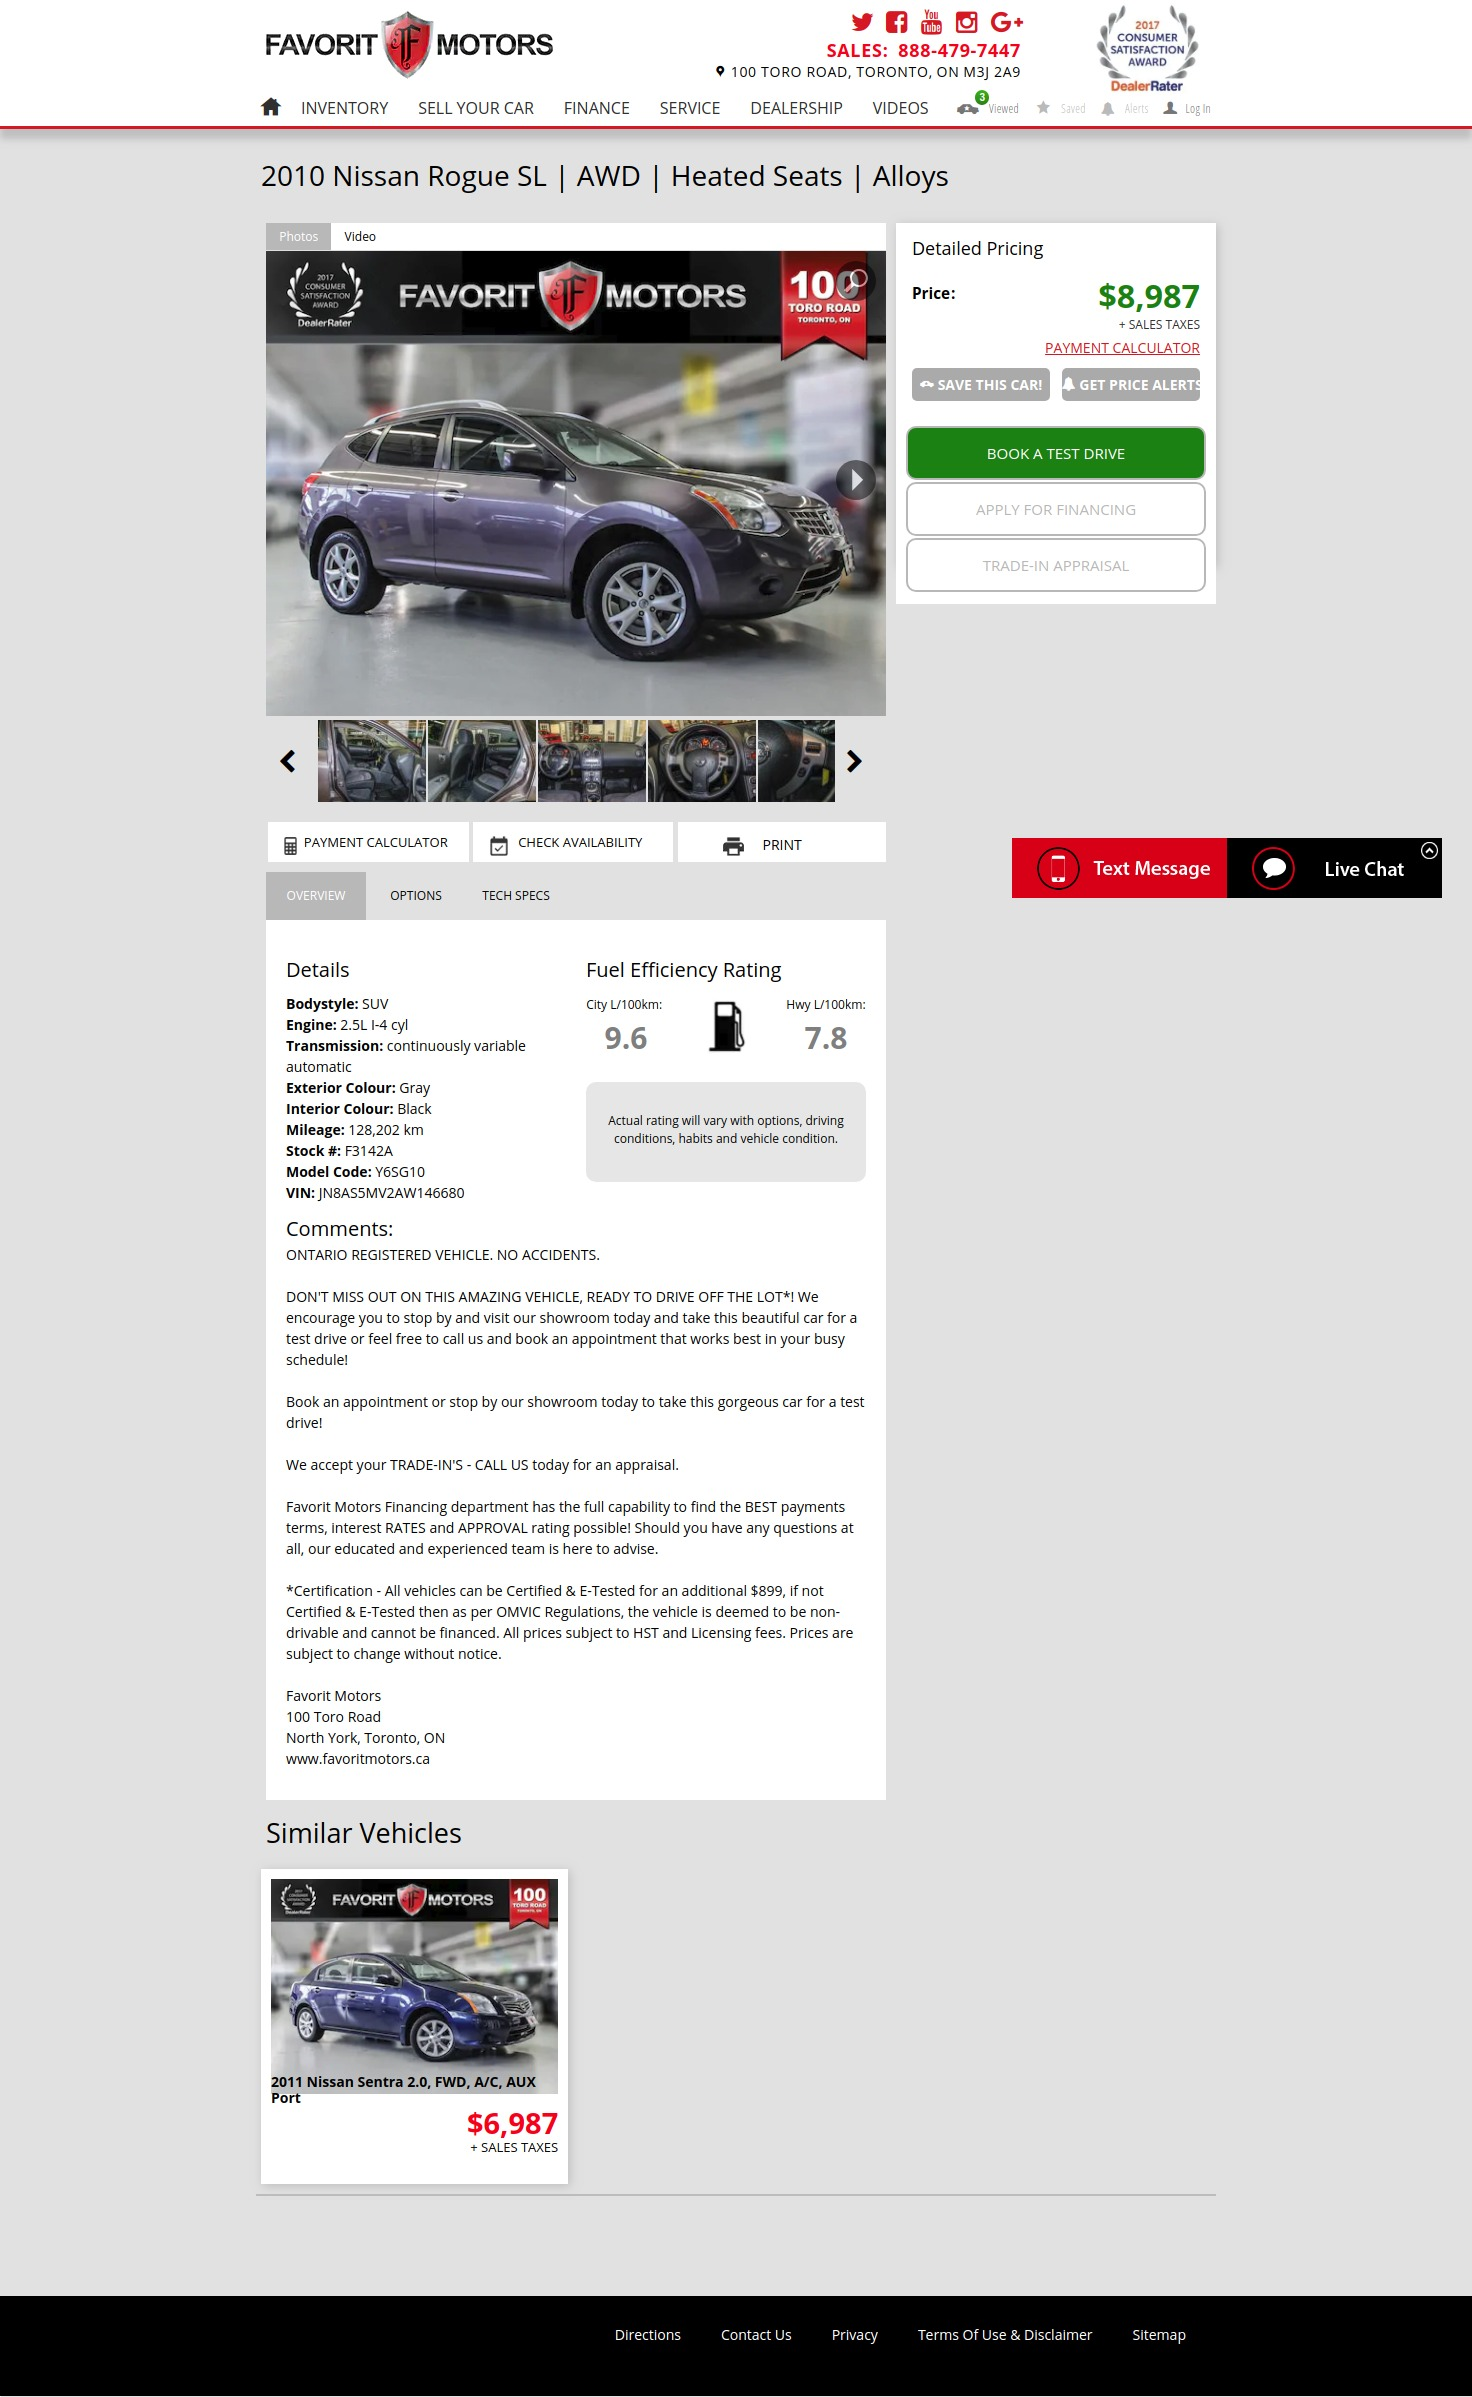car: (847, 750, 863, 772)
